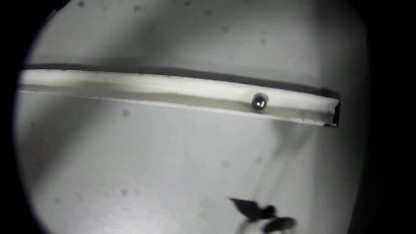gangzhu: (250, 92, 269, 111)
